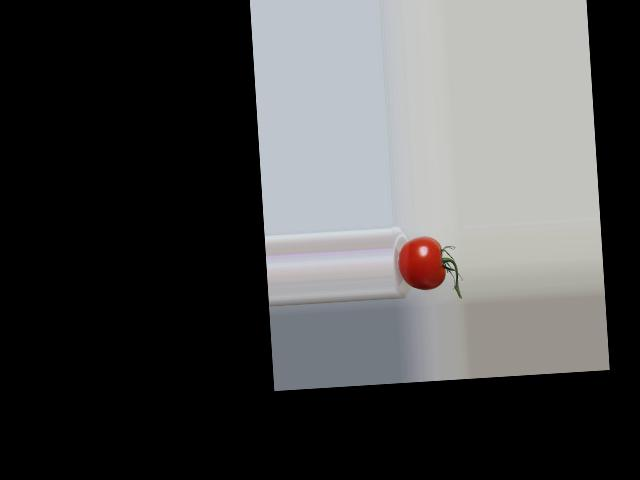tomato: (397, 235, 446, 292)
